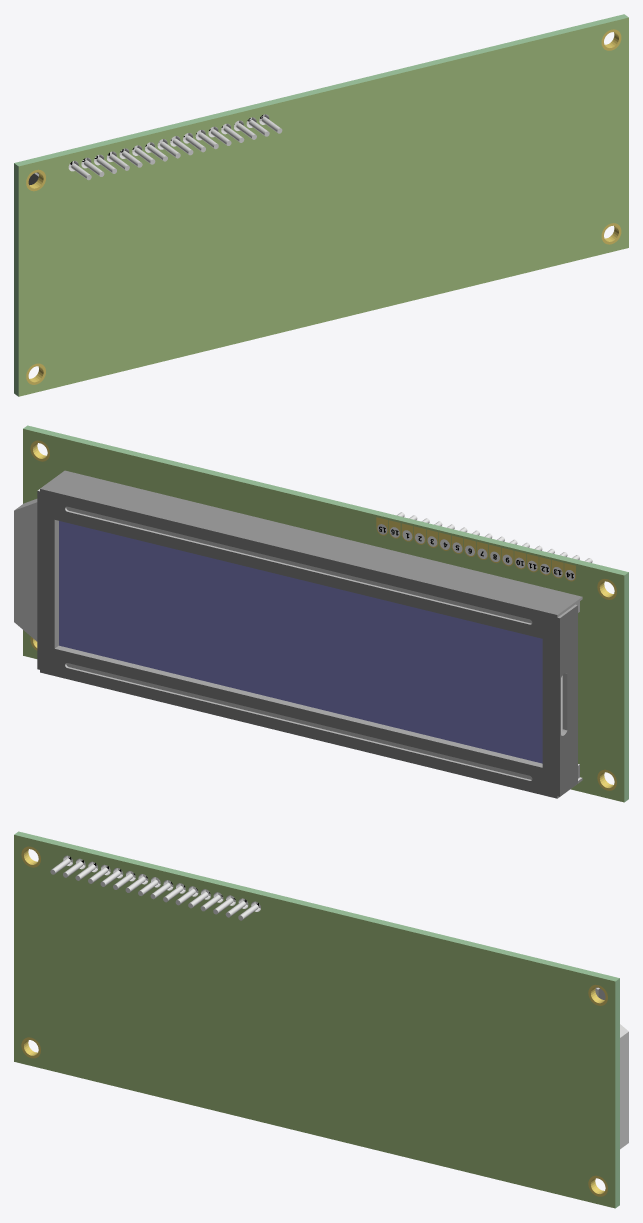
Rendered from Lcd_16x2.fbx.
3 views of the same model, one above another, from view 1: azimuth 30°, elevation 25°; view 2: azimuth 150°, elevation 25°; view 3: azimuth 330°, elevation 25° (orthographic).
Visible parts, largest first — view 1: imagetostl_mesh540, imagetostl_mesh596, imagetostl_mesh593; view 2: imagetostl_mesh2, imagetostl_mesh0, imagetostl_mesh554, imagetostl_mesh592, imagetostl_mesh596, imagetostl_mesh184, imagetostl_mesh834, imagetostl_mesh604, imagetostl_mesh126, imagetostl_mesh99, imagetostl_mesh593, imagetostl_mesh113 (+2 smaller); view 3: imagetostl_mesh540, imagetostl_mesh596, imagetostl_mesh595, imagetostl_mesh615.
Boxes of the visible parts, x1,y1,x2,y2 form: imagetostl_mesh540: [18, 17, 628, 396]; imagetostl_mesh596: [14, 14, 628, 166]; imagetostl_mesh593: [14, 163, 18, 396]; imagetostl_mesh2: [59, 521, 542, 763]; imagetostl_mesh0: [37, 489, 559, 798]; imagetostl_mesh554: [23, 429, 624, 802]; imagetostl_mesh592: [40, 470, 581, 614]; imagetostl_mesh596: [23, 425, 628, 575]; imagetostl_mesh184: [14, 502, 37, 641]; imagetostl_mesh834: [560, 605, 577, 796]; imagetostl_mesh604: [55, 645, 542, 767]; imagetostl_mesh126: [66, 663, 532, 779]; imagetostl_mesh99: [66, 506, 532, 623]; imagetostl_mesh593: [624, 572, 628, 802]; imagetostl_mesh113: [68, 511, 530, 624]; imagetostl_mesh540: [14, 835, 615, 1208]; imagetostl_mesh596: [14, 831, 619, 981]; imagetostl_mesh595: [615, 978, 619, 1208]; imagetostl_mesh615: [620, 1032, 628, 1149].
Bounding box in the file's own units: 480 × 173 × 62.2.
